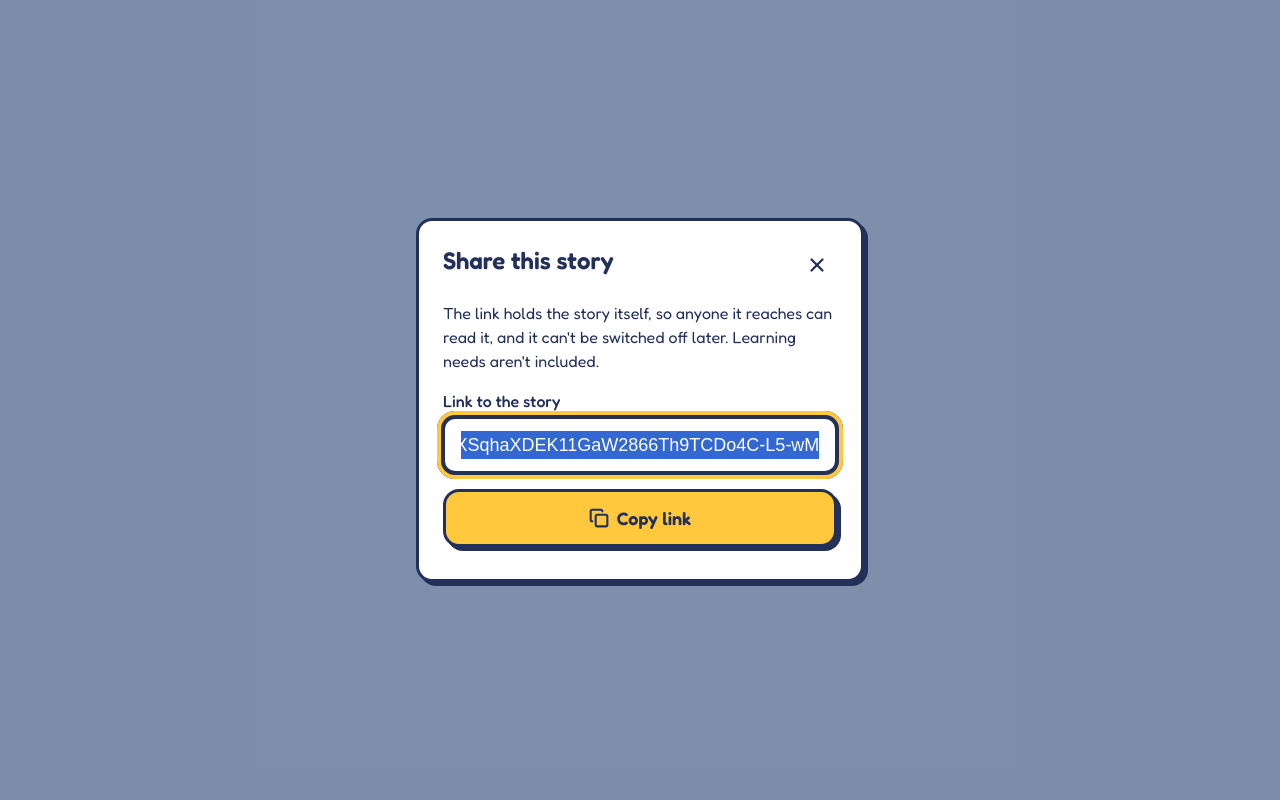
it: StorySharing › asks for the link to be copied by hand when the clipboard refuses
What coordinates should you click on to do the following:
click the button "Copy link"
I would click on:
 (640, 518)
Its box is [443,489,837,547].
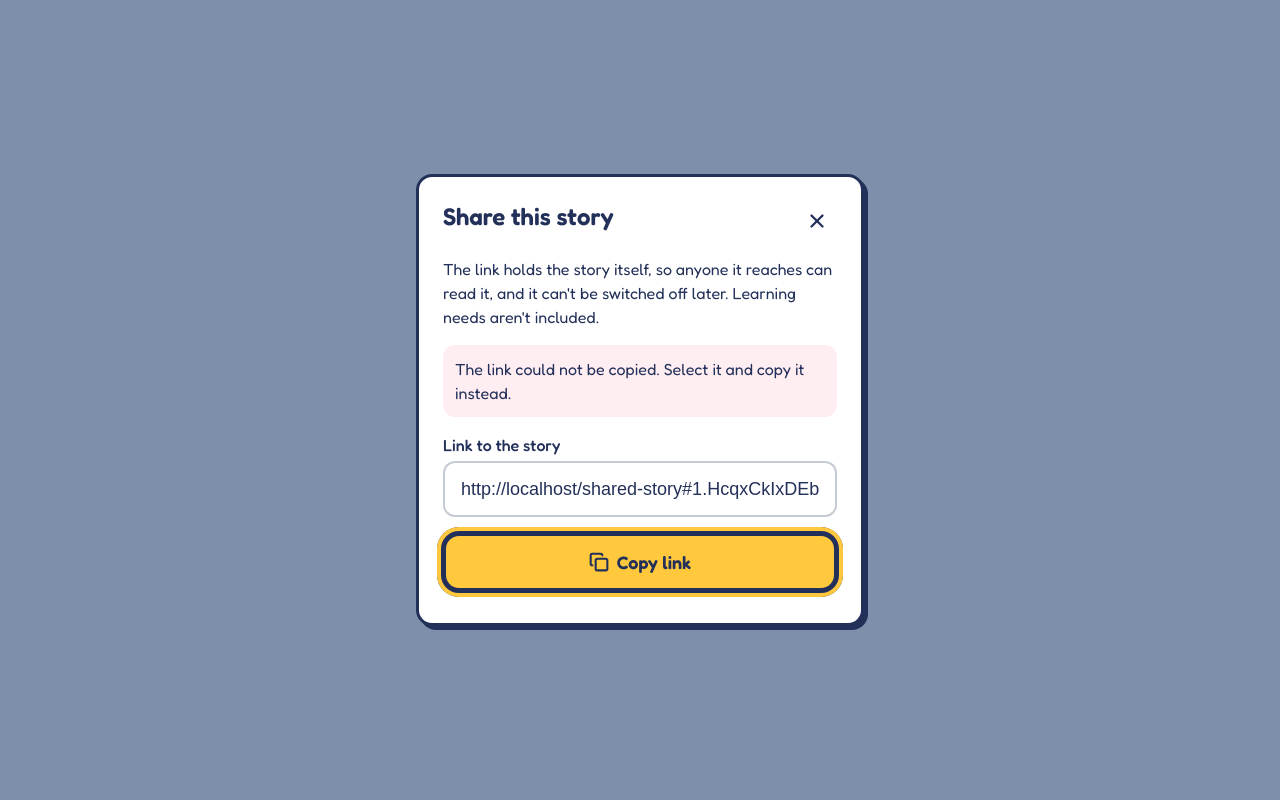
Expected: the message reads "The link could not be copied. Select it and copy it instead.", [455,359,804,403]
